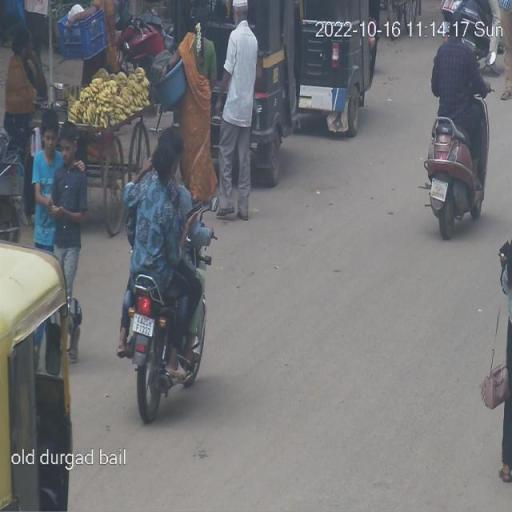tripple riding: (118, 120, 220, 274)
